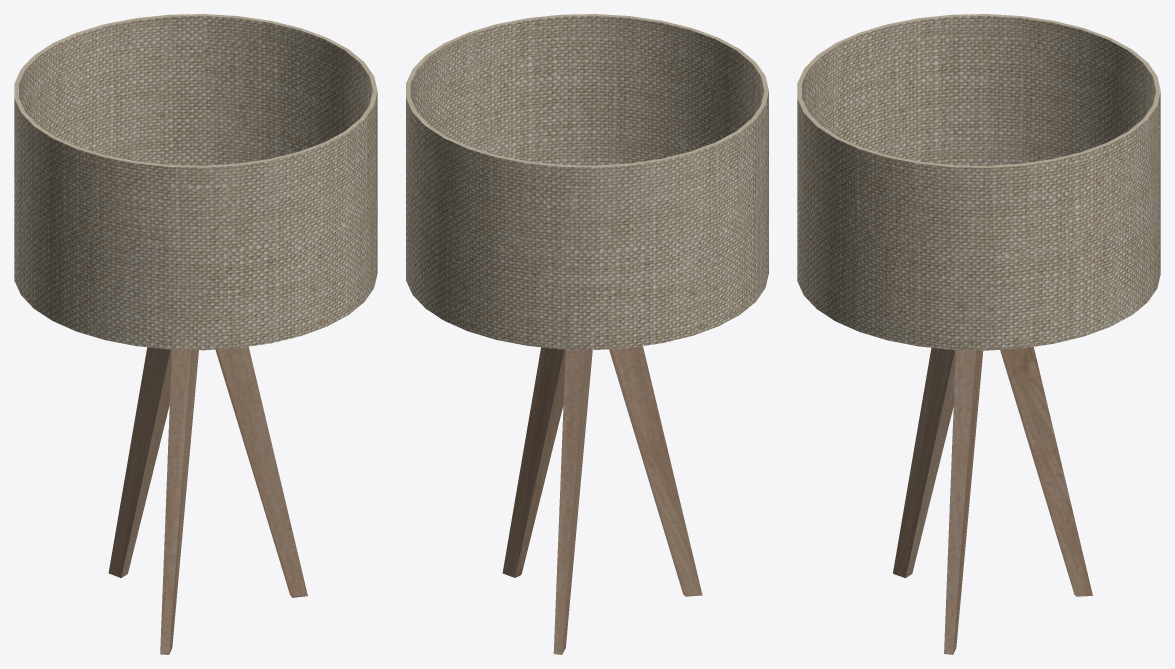
The model's file is Lamp.FBX.
3 views of the same model, side by side, from view 1: azimuth 30°, elevation 25°; view 2: azimuth 150°, elevation 25°; view 3: azimuth 270°, elevation 25° (orthographic).
Visible parts, largest first — view 1: Lamp; view 2: Lamp; view 3: Lamp.
Part boxes in pixels (bbox=[...]): Lamp: bbox=[14, 14, 377, 654]; Lamp: bbox=[406, 14, 768, 654]; Lamp: bbox=[797, 14, 1160, 654].
Size of the model in its own units: 29.91 by 46.84 by 29.88.
